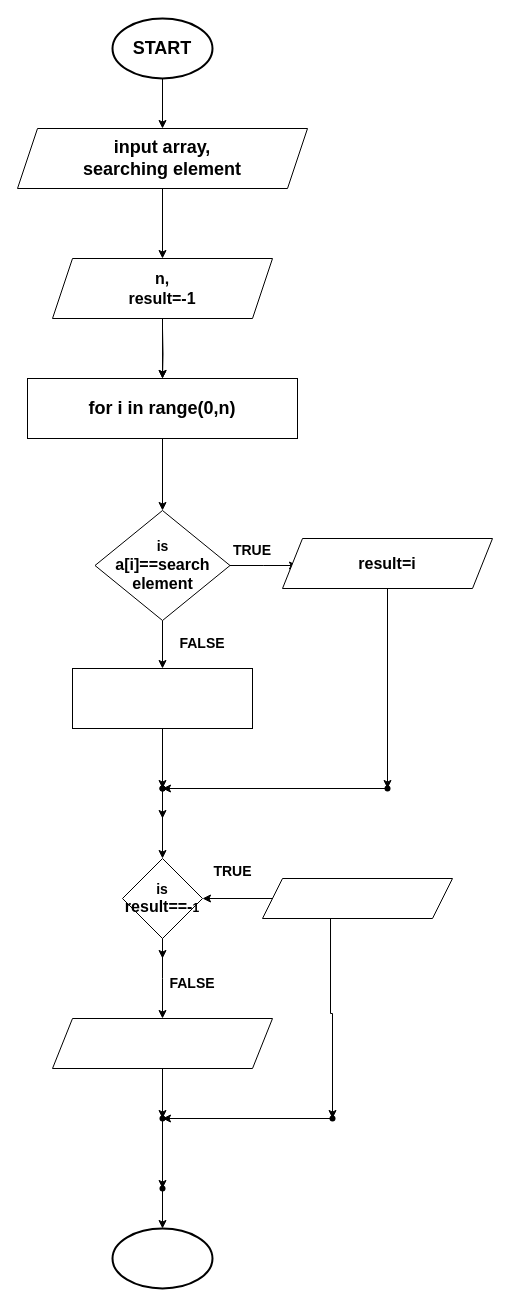
Some shapes in this 510 by 1306 pixel diagram are drawn without their labels. The centre of each missing label's shape, as x and y in pixels:
element found at i: the point at 162,1043
element not found: the point at 357,898
end: the point at 162,1258
increment i: the point at 162,698
